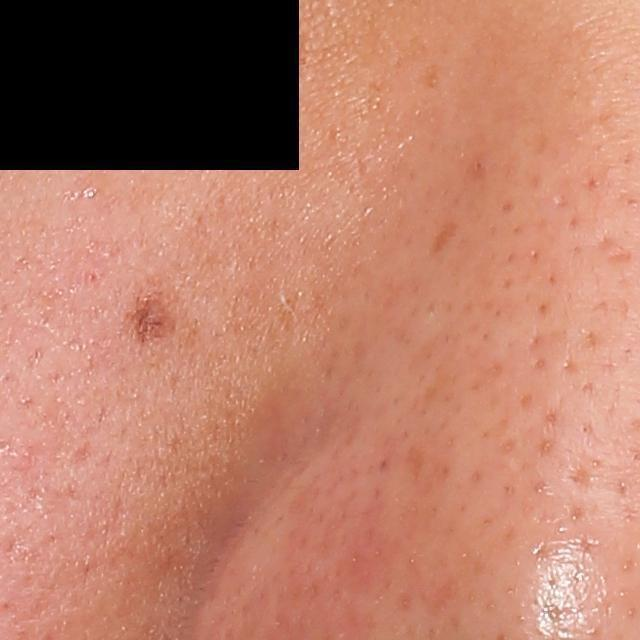melasma: (271, 26, 317, 71), (429, 218, 460, 257), (423, 61, 441, 89)
nevus: (123, 290, 183, 347)
